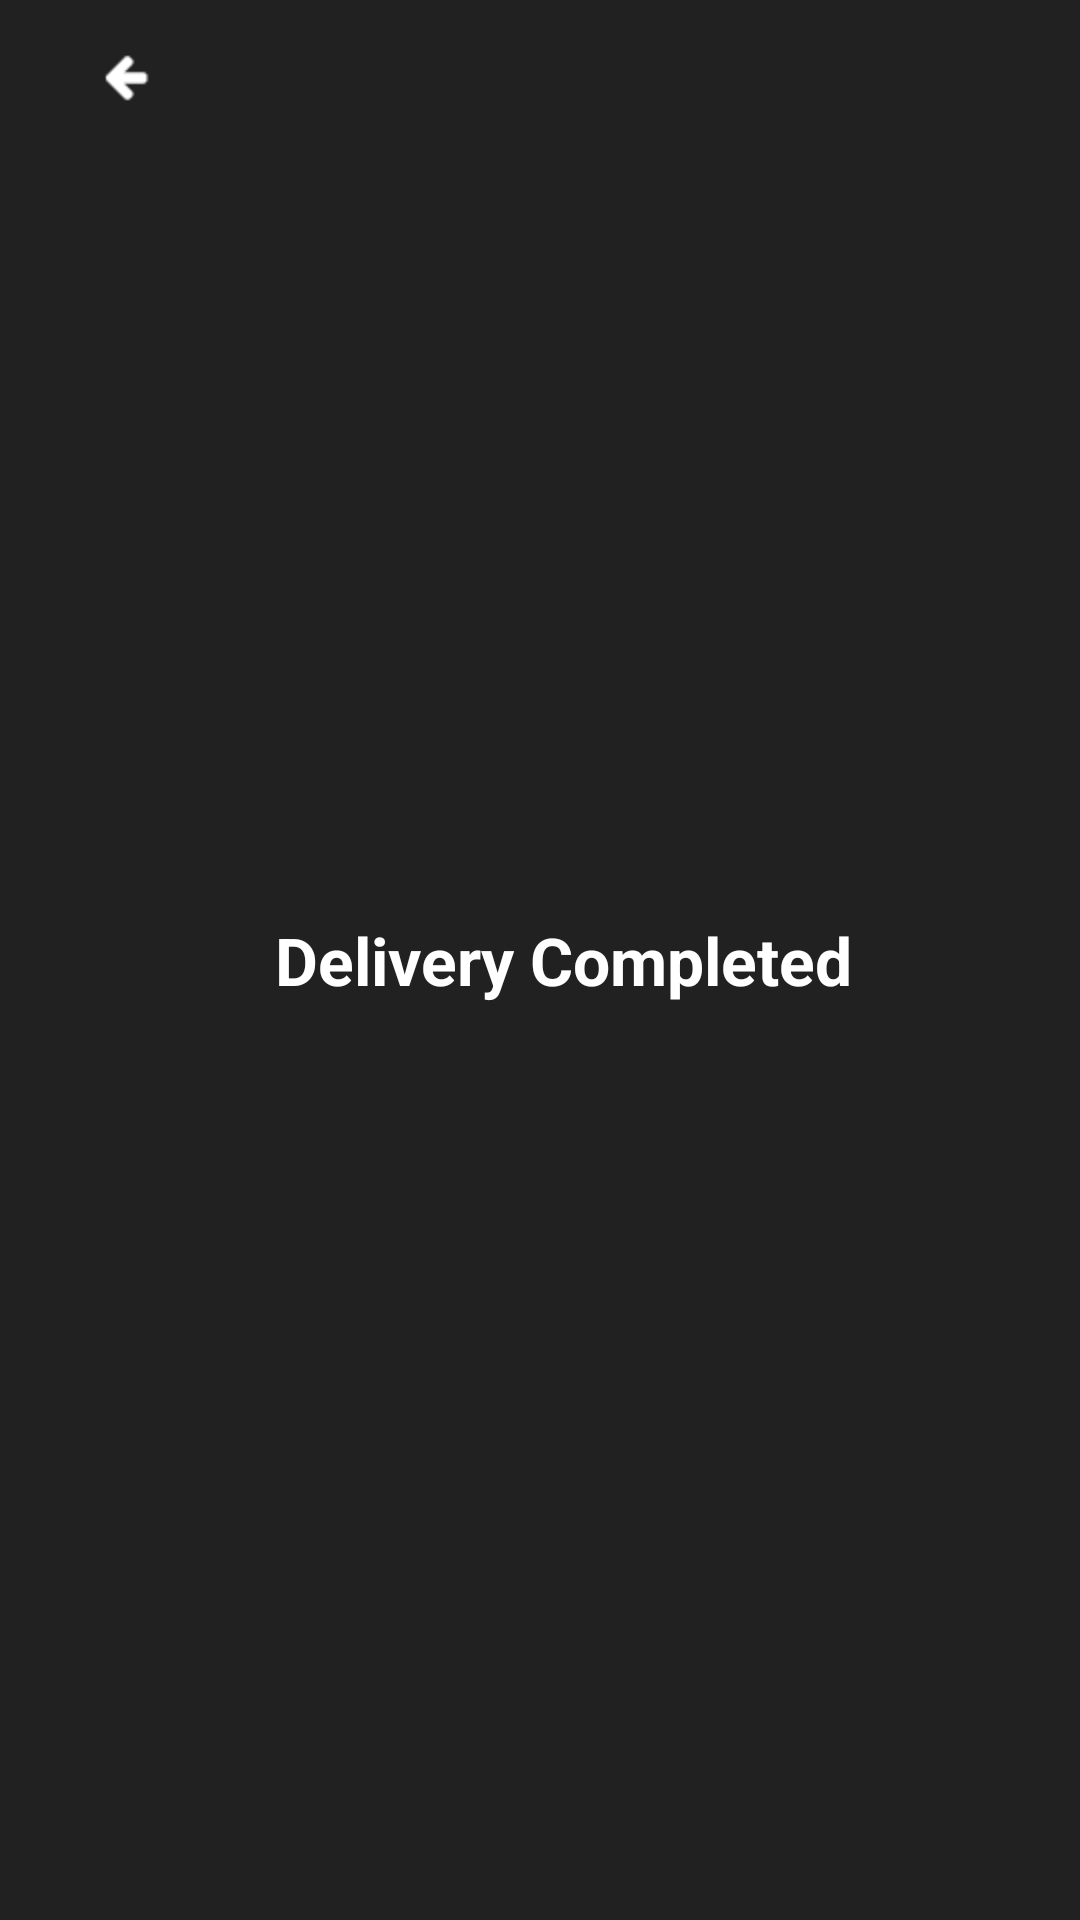

Screen size 1080 x 1920. Icon name, then its center in pixels as (x,y):
arrow back: (127,78)
